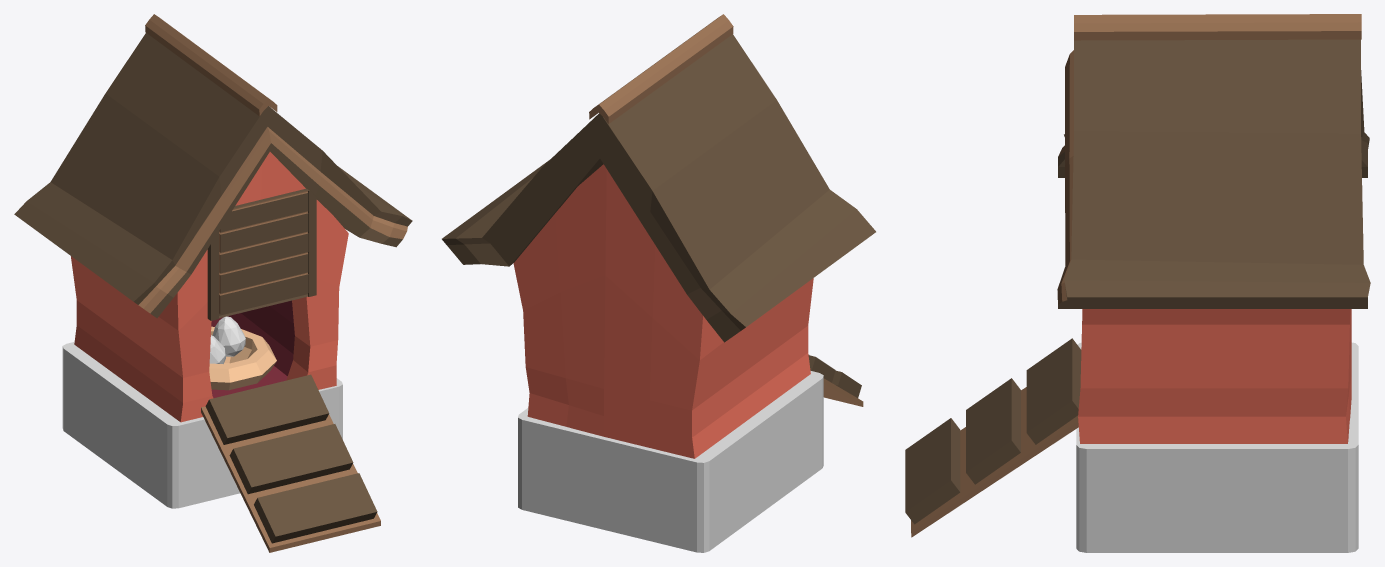
File: chicken_coop.glb
The picture shows the model from 3 angles, left to right: view 1: azimuth 30°, elevation 25°; view 2: azimuth 150°, elevation 25°; view 3: azimuth 270°, elevation 25°; orthographic projection. The views are drawn at different scales.
Visible parts, largest first — view 1: chicken coop; view 2: chicken coop; view 3: chicken coop.
Part boxes in pixels (x1=…): chicken coop: x1=14, y1=14, x2=412, y2=552; chicken coop: x1=442, y1=14, x2=875, y2=552; chicken coop: x1=905, y1=14, x2=1370, y2=552.
Size of the model in its own units: 303 by 407 by 348.
